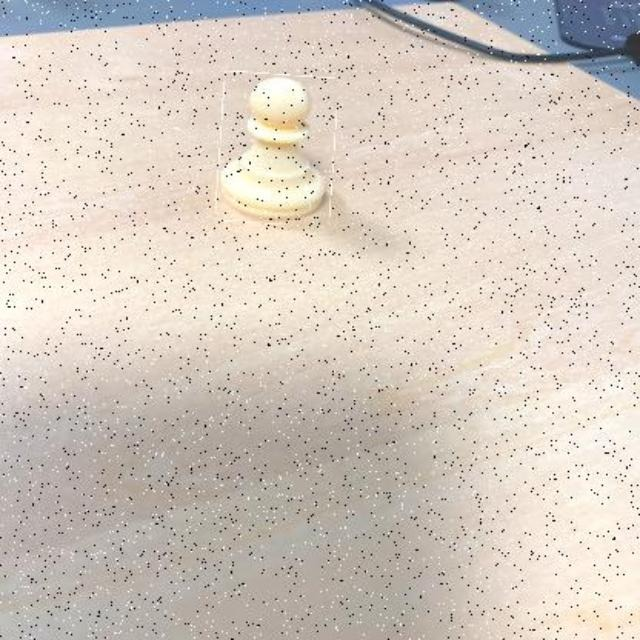white-pawn: (218, 72, 336, 224)
